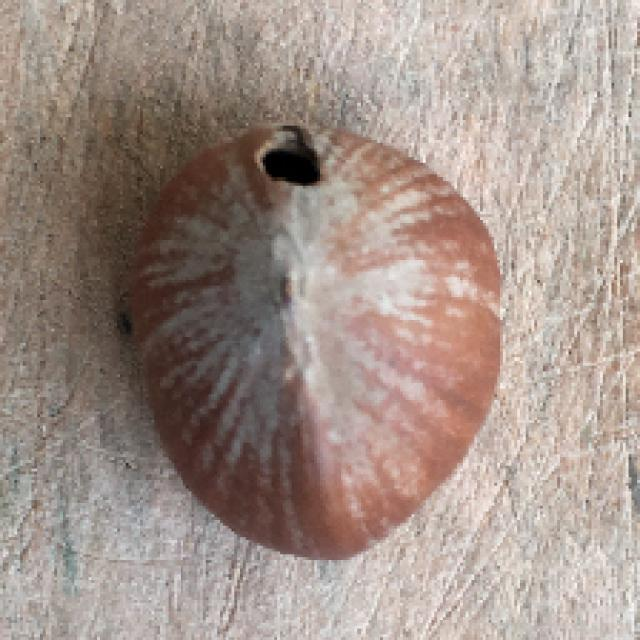damagedHazelnut: (121, 108, 500, 566)
